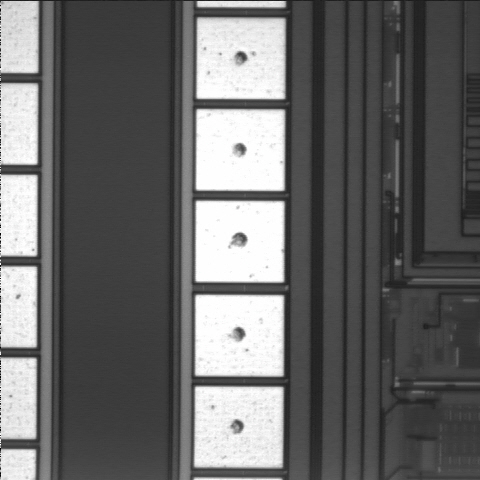pad: (196, 109, 285, 191), (195, 201, 284, 283), (195, 295, 284, 376), (194, 387, 283, 468), (197, 18, 285, 99)
